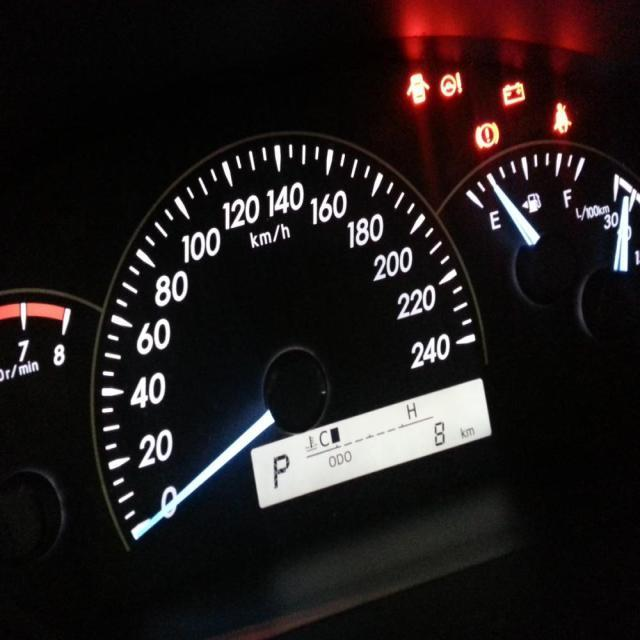Electronic Power Steering: (439, 72, 464, 98)
Seat Belt: (554, 102, 572, 133)
